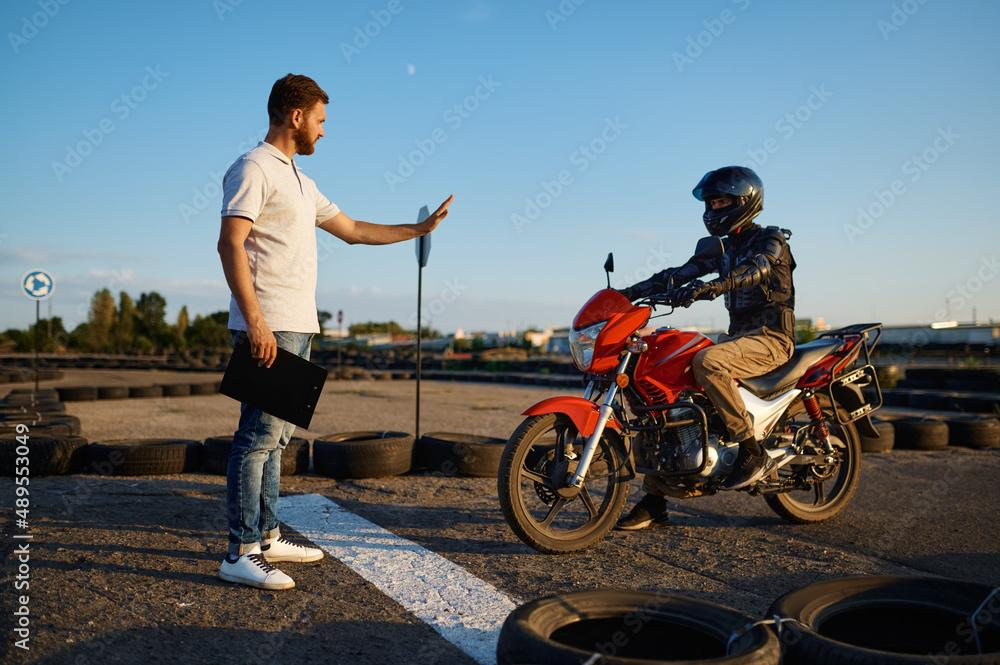helmet: (691, 164, 766, 238)
nohelmet: (267, 71, 330, 157)
